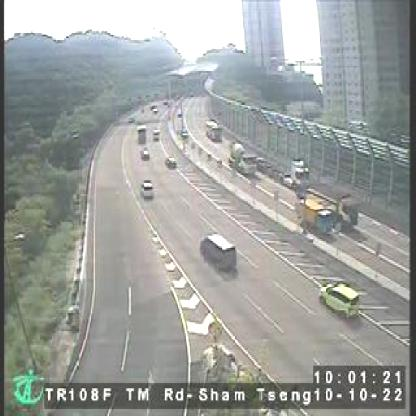Car: (317, 282, 363, 324), (199, 231, 238, 272), (141, 179, 156, 198), (168, 156, 179, 170), (166, 155, 177, 167), (142, 147, 152, 159), (182, 126, 192, 138), (153, 129, 161, 140)
Truck: (247, 152, 310, 187), (312, 182, 357, 228), (298, 195, 335, 236), (228, 138, 254, 176), (205, 118, 223, 141)
